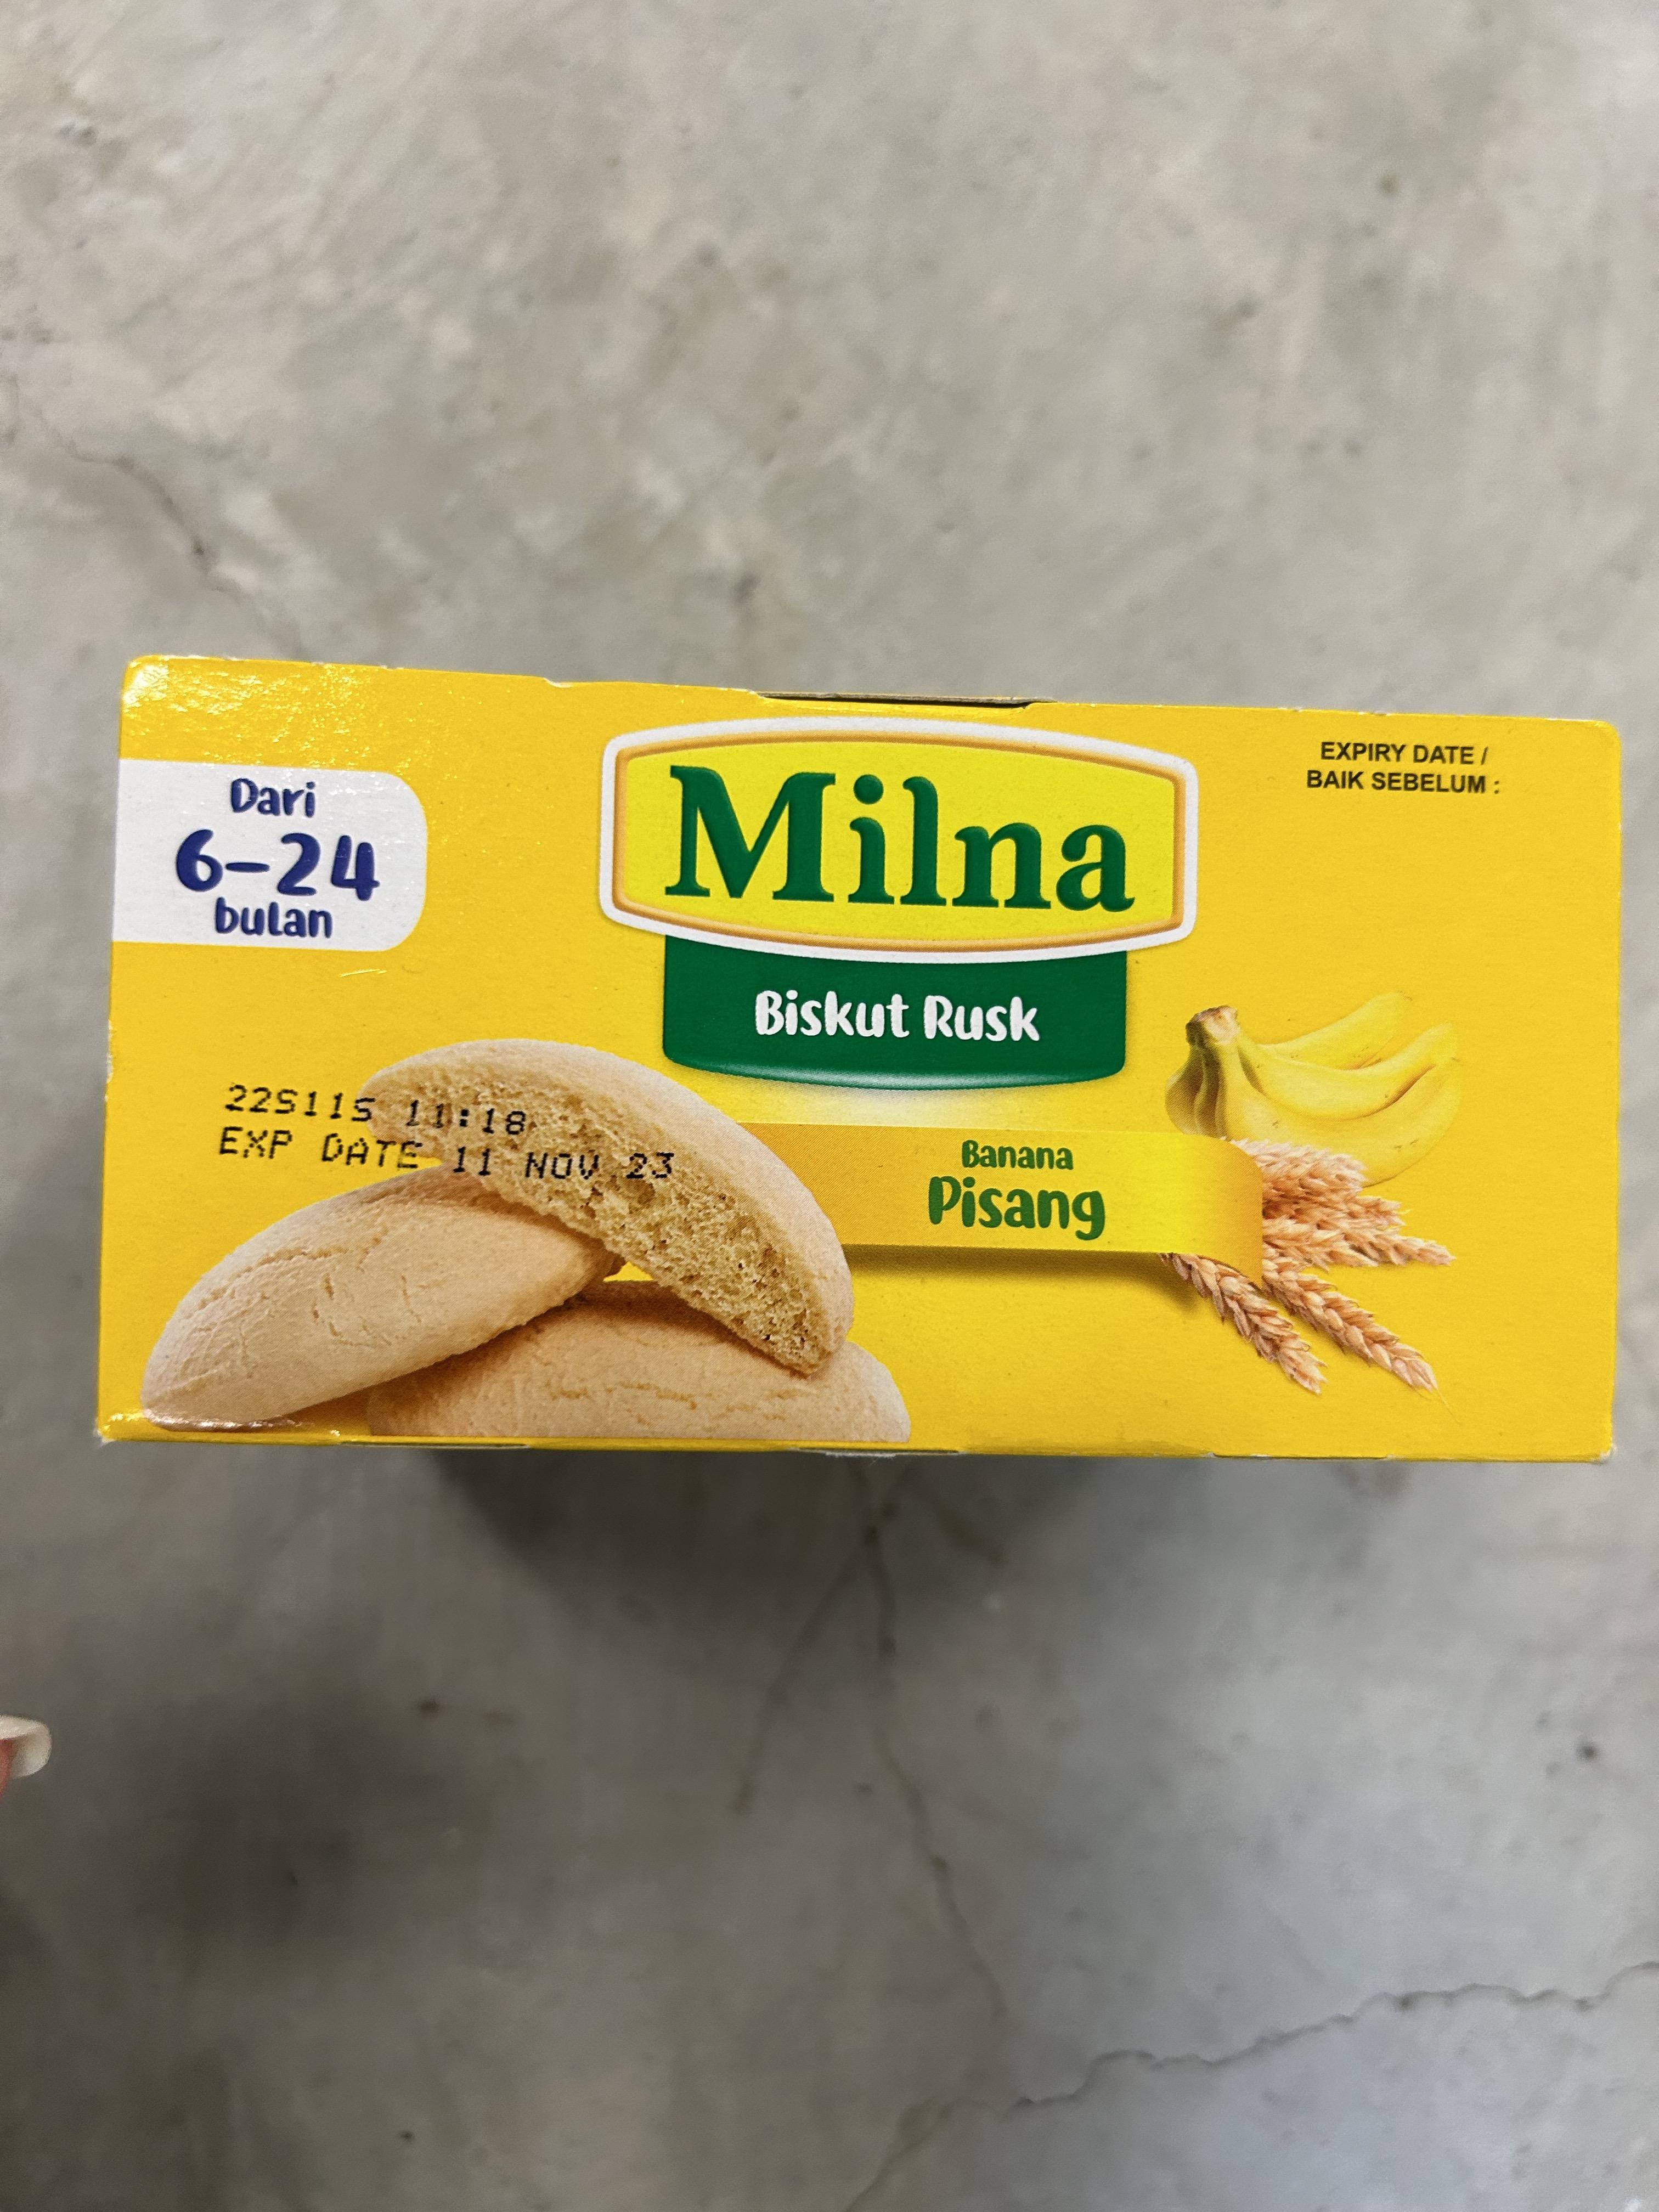object_name: (134, 660, 1614, 1456)
